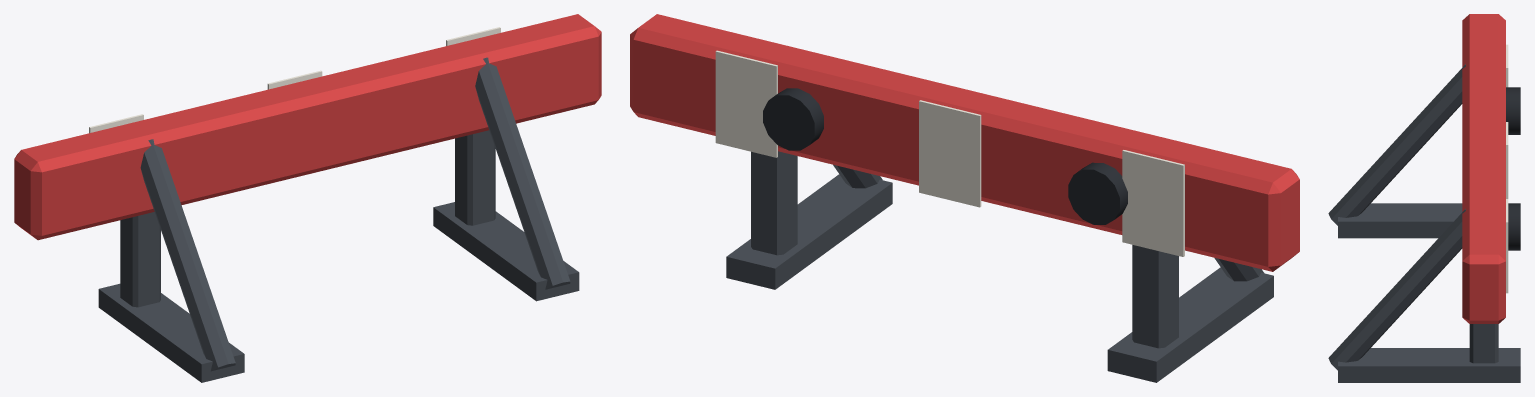
Rendered from buffer-stop-proto.glb.
3 views of the same model, side by side, from view 1: azimuth 30°, elevation 25°; view 2: azimuth 150°, elevation 25°; view 3: azimuth 270°, elevation 25° (orthographic). The views are drawn at different scales.
Parts seen in each view (by area): view 1: buffer-stop-proto; view 2: buffer-stop-proto; view 3: buffer-stop-proto.
Part boxes in pixels (box(x1,y1,x2,y2)): buffer-stop-proto: box(14, 14, 601, 382); buffer-stop-proto: box(630, 14, 1299, 382); buffer-stop-proto: box(1328, 14, 1520, 382).
Bounding box in the file's own units: 3.2 × 1.01 × 1.05.
